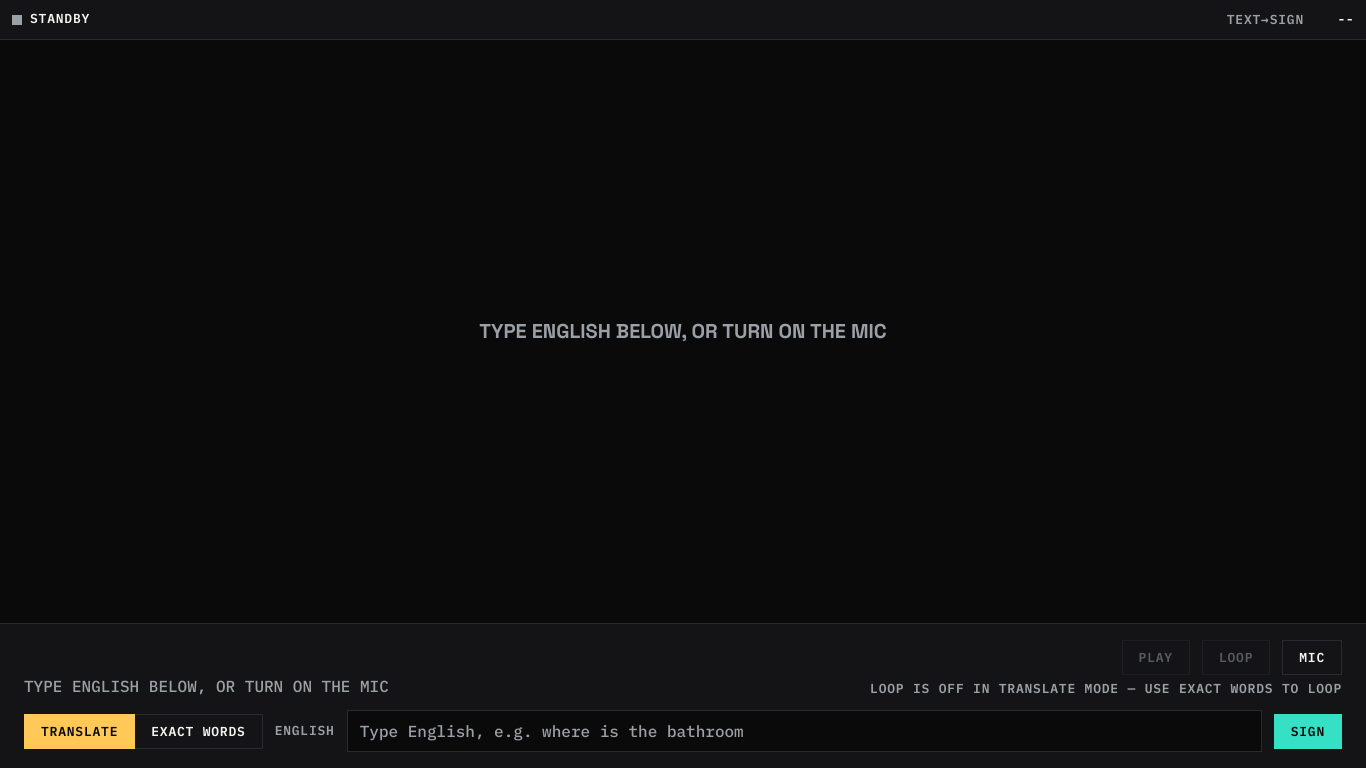
Test case: App integration: real pose-library words › renders a clean "ok" word ("about"): skeleton, gloss caption, and READY status all appear
Click the button "EXACT WORDS". click: x=199, y=731
box: [135,714,263,748]
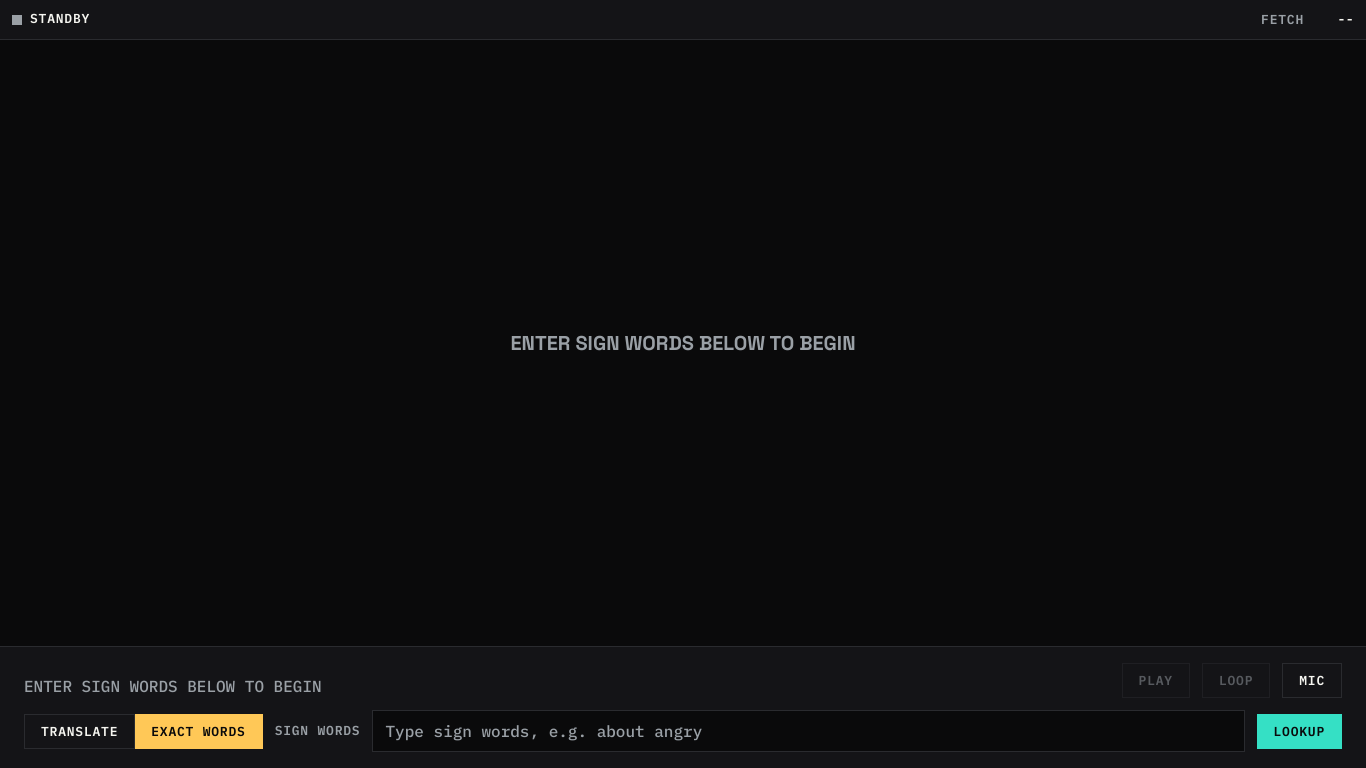
Type "about" into the field labelled "SIGN WORDS". click: x=808, y=731
box: [372,710,1244,752]
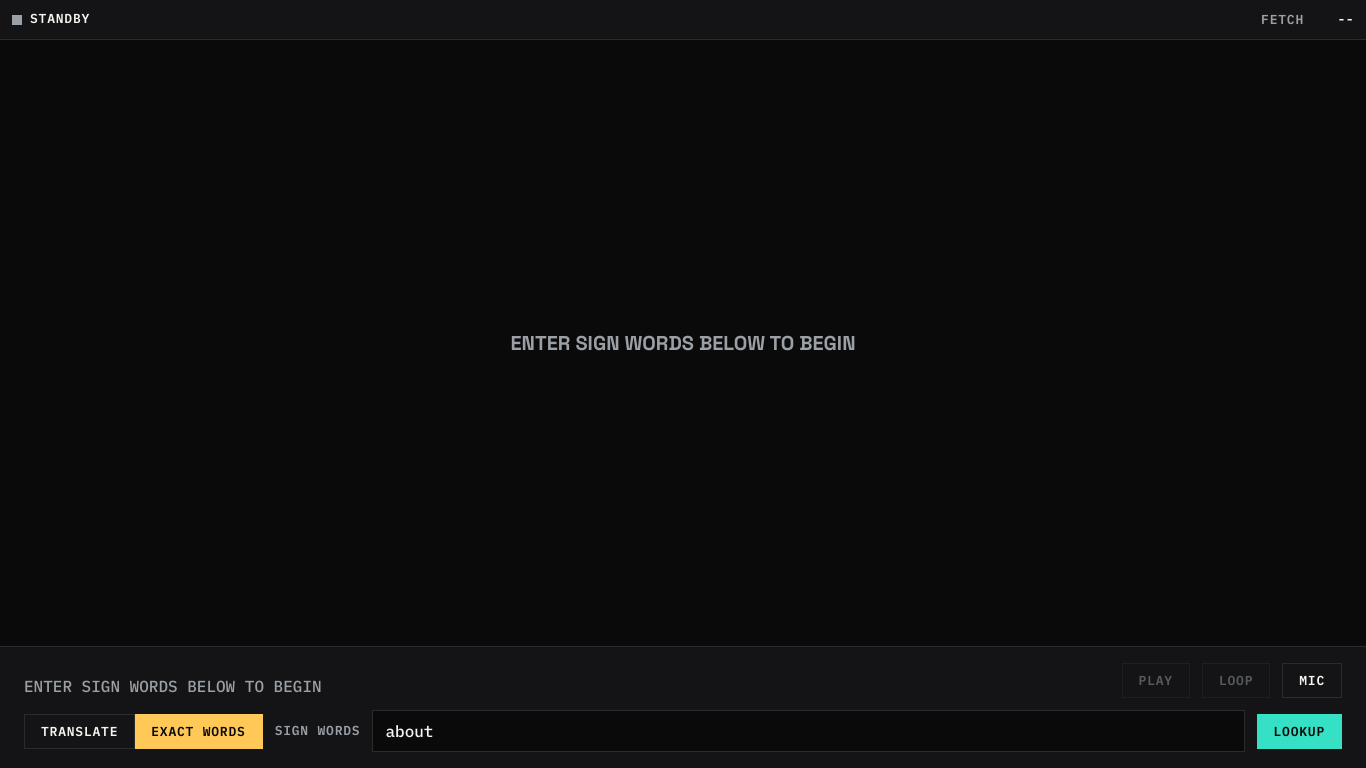
Click the button "LOOKUP". click: x=1299, y=731
box: [1256,714,1342,748]
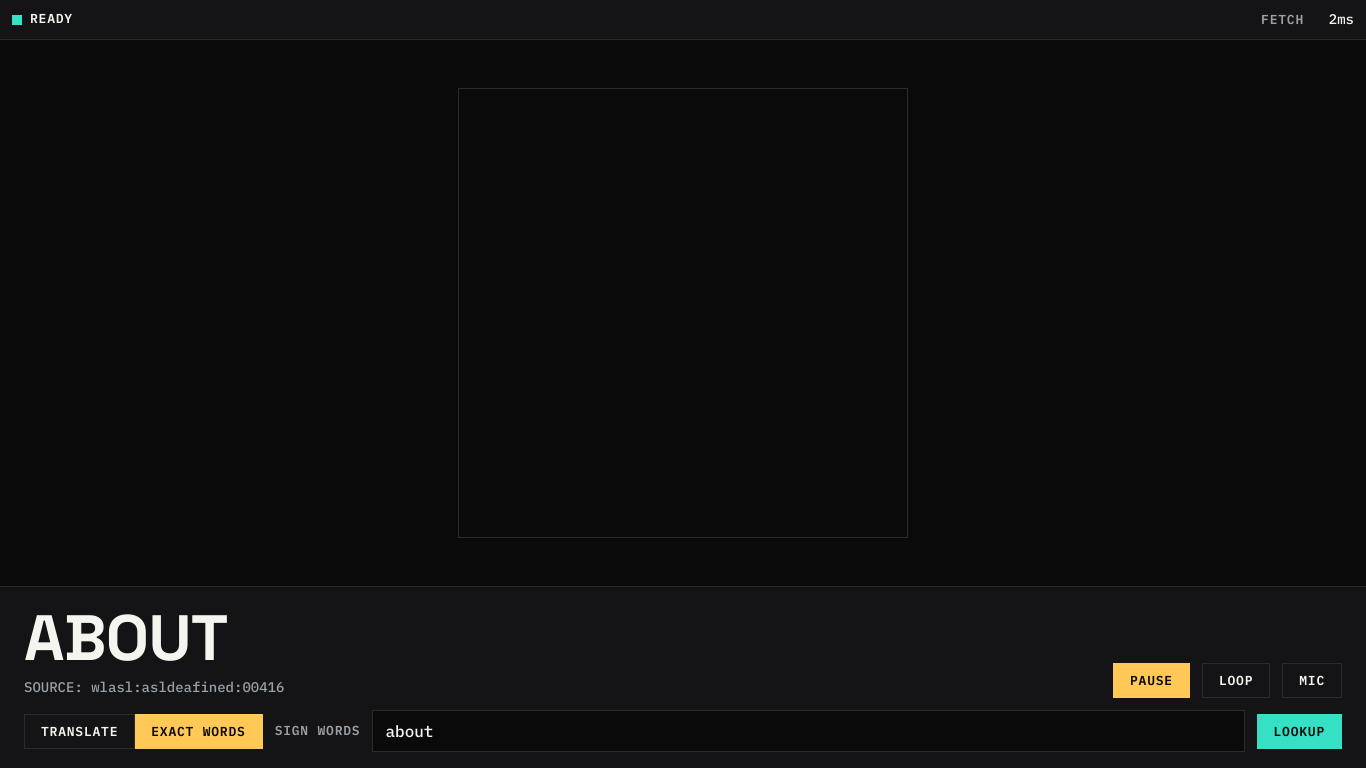
Result: the heading "ABOUT" is shown at [24,603,228,673]
Result: the picture named "ASL sign skeleton animation" is shown at [459,89,907,537]
Result: the text "READY" is shown at [30,10,73,29]
